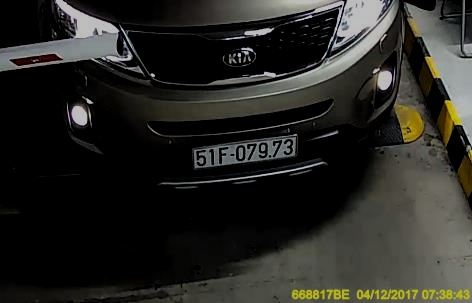plate: (188, 131, 301, 165)
